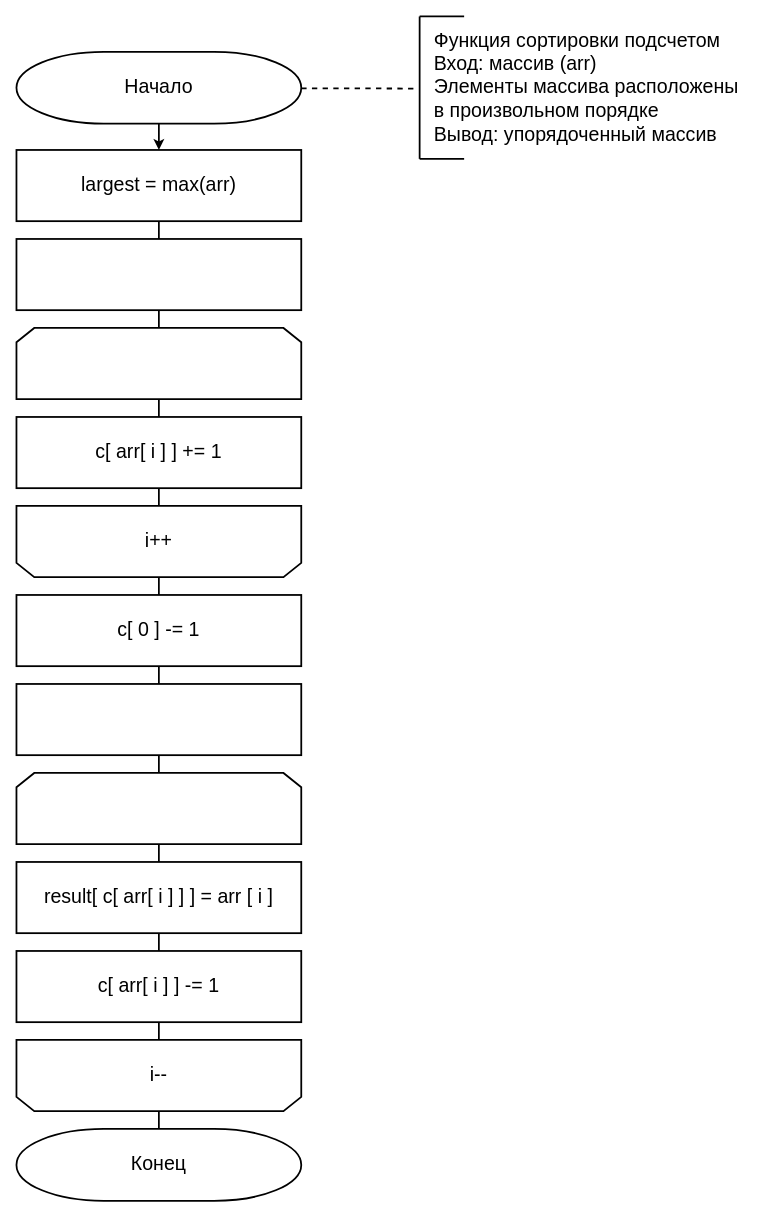
This 765x1217 diagram has some shape labels left out. Here are the shapes that lost their labels. From the top down, the centre of each, then its label:
At (158,274): "массив c = new(int, largest + 1)".
At (158,363): "For i := 0 To len(arr)".
At (158,719): "массив result = new(int, len(arr))".
At (158,808): "For i := len(arr) - 1 downto 0".
